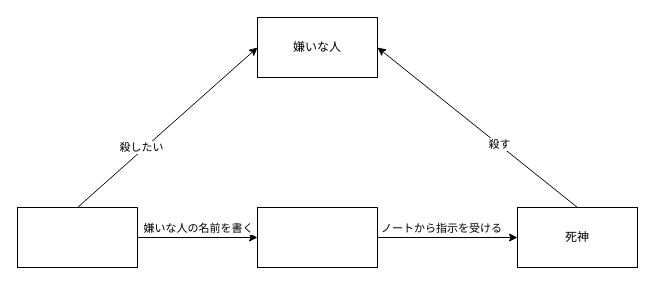
This 655x285 diagram has some shape labels left out. The centre of each missing label's shape, as x and y in pixels:
ノート: the point at 317,237
プレイヤー: the point at 77,237
